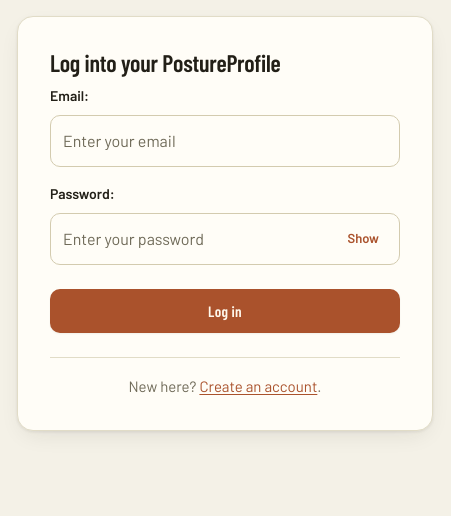
Scenario: Login › reports bad credentials without saying which part was wrong
Type "nobody@example.com" into the field labelled "Email:" at (225, 141), box [50, 115, 400, 167]
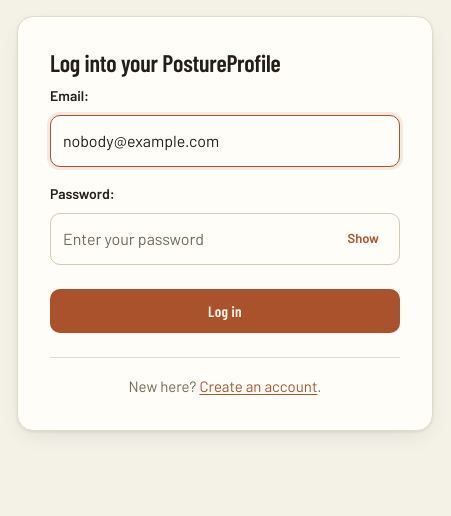
Type "correct-horse" into the password field labelled "Password:" at (225, 239), box [50, 213, 400, 265]
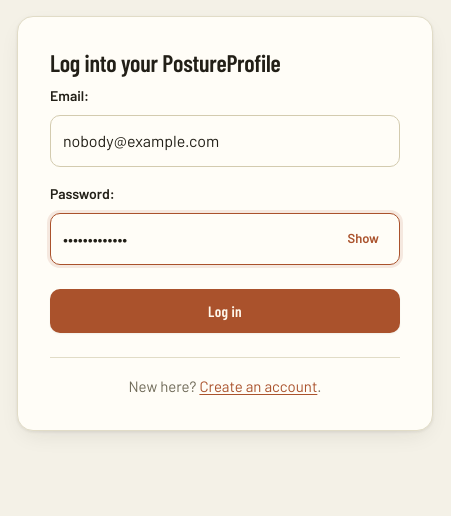
Click the button "Log in" at (225, 311), box [50, 289, 400, 333]
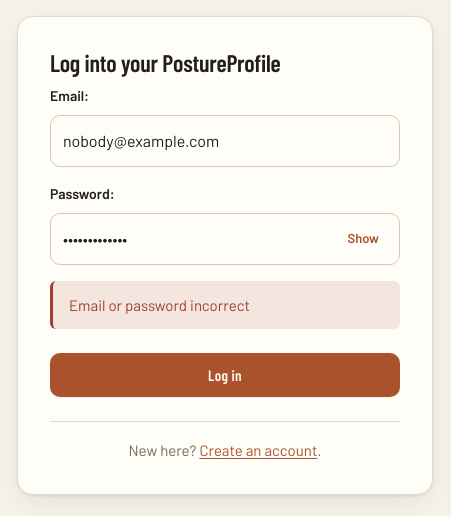
Expected: the message reads "Email or password incorrect", [69, 296, 250, 314]
